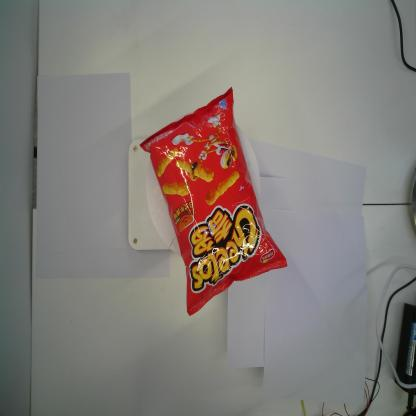Puffed Food: (139, 87, 288, 317)
